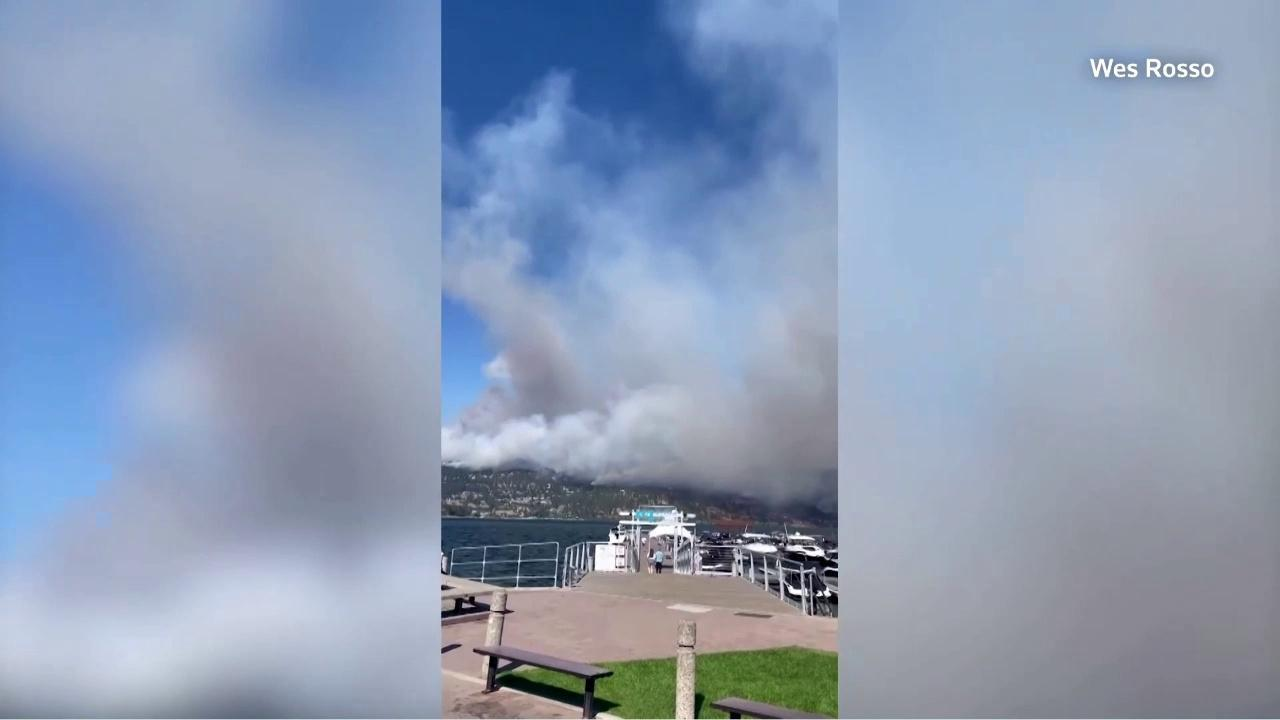smoke: (441, 0, 837, 518)
